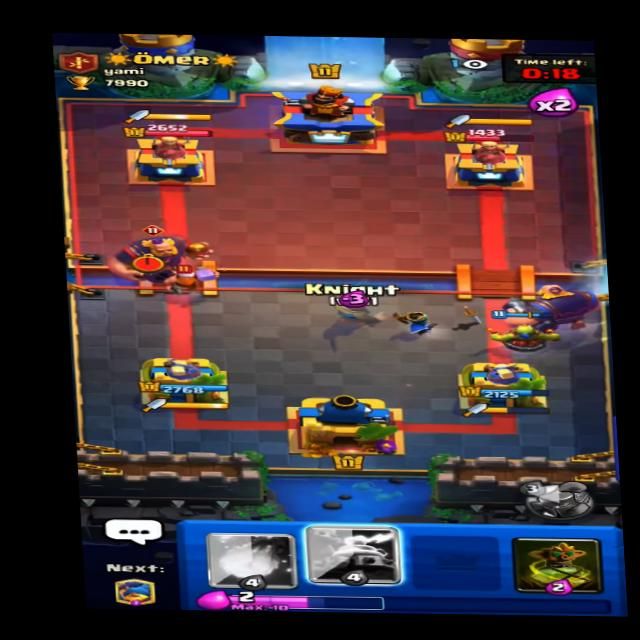evo-royal-giant: (96, 223, 224, 283)
lumberjack: (156, 260, 225, 295)
